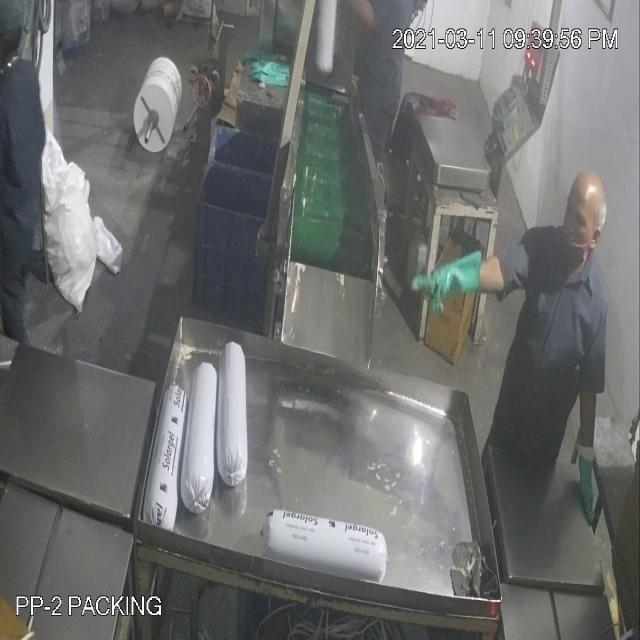Gloves: (36, 97, 587, 478)
